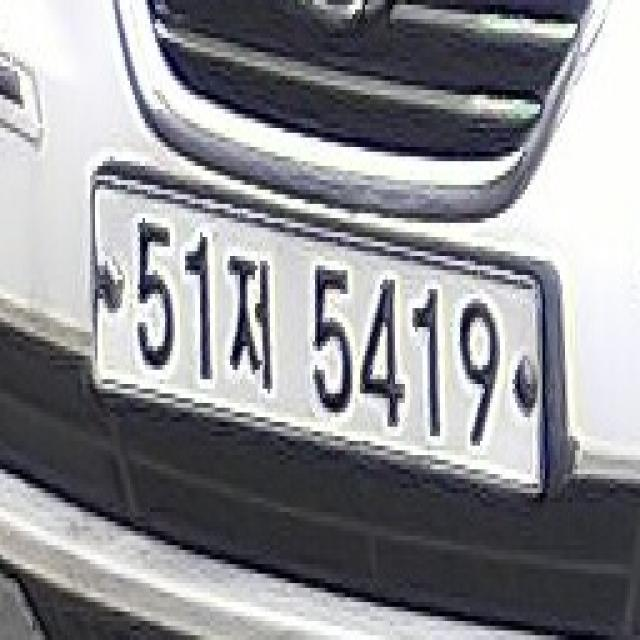1: (179, 228, 219, 392), (411, 282, 448, 447)
4: (359, 274, 412, 438)
5: (306, 251, 358, 428), (130, 208, 176, 386)
9: (451, 292, 502, 450)
jeo: (224, 238, 285, 406)
license_plate: (79, 148, 578, 545)
